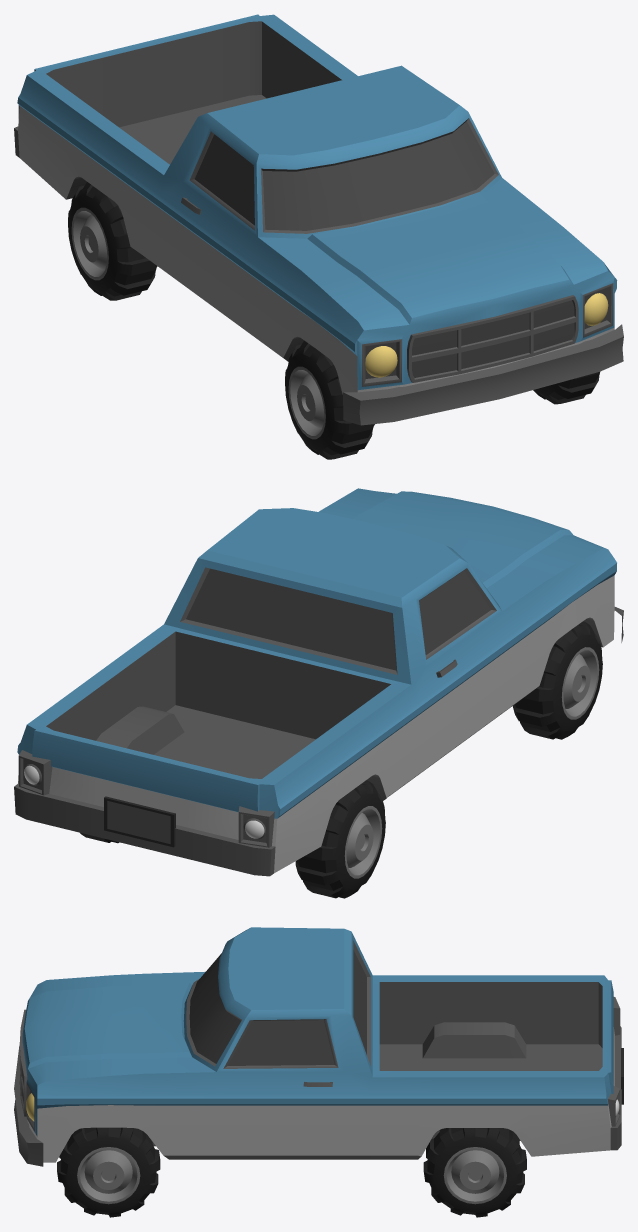
The model's file is pickup.glb.
3 views of the same model, one above another, from view 1: azimuth 30°, elevation 25°; view 2: azimuth 150°, elevation 25°; view 3: azimuth 270°, elevation 25° (orthographic). The views are drawn at different scales.
Parts seen in each view (by area): view 1: Pickup, BackWheels, FrontWheel_R, FrontWheel_L; view 2: Pickup, BackWheels, FrontWheel_R; view 3: Pickup, BackWheels, FrontWheel_L.
Part boxes in pixels (x1,y1,x2,y2): Pickup: [14, 14, 623, 425]; BackWheels: [68, 182, 157, 300]; FrontWheel_R: [285, 340, 374, 459]; FrontWheel_L: [533, 372, 599, 404]; Pickup: [14, 488, 623, 876]; BackWheels: [80, 780, 385, 898]; FrontWheel_R: [512, 621, 602, 739]; Pickup: [14, 927, 623, 1166]; BackWheels: [423, 1128, 526, 1217]; FrontWheel_L: [57, 1127, 160, 1217].
Size of the model in its own units: 2.31 by 1.85 by 5.18.
Materials: 3 (1 with a texture image).
